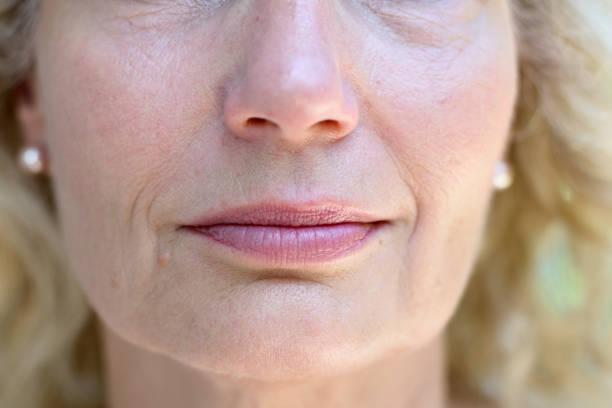Dry-Skin: (27, 20, 181, 261), (368, 34, 516, 210)
